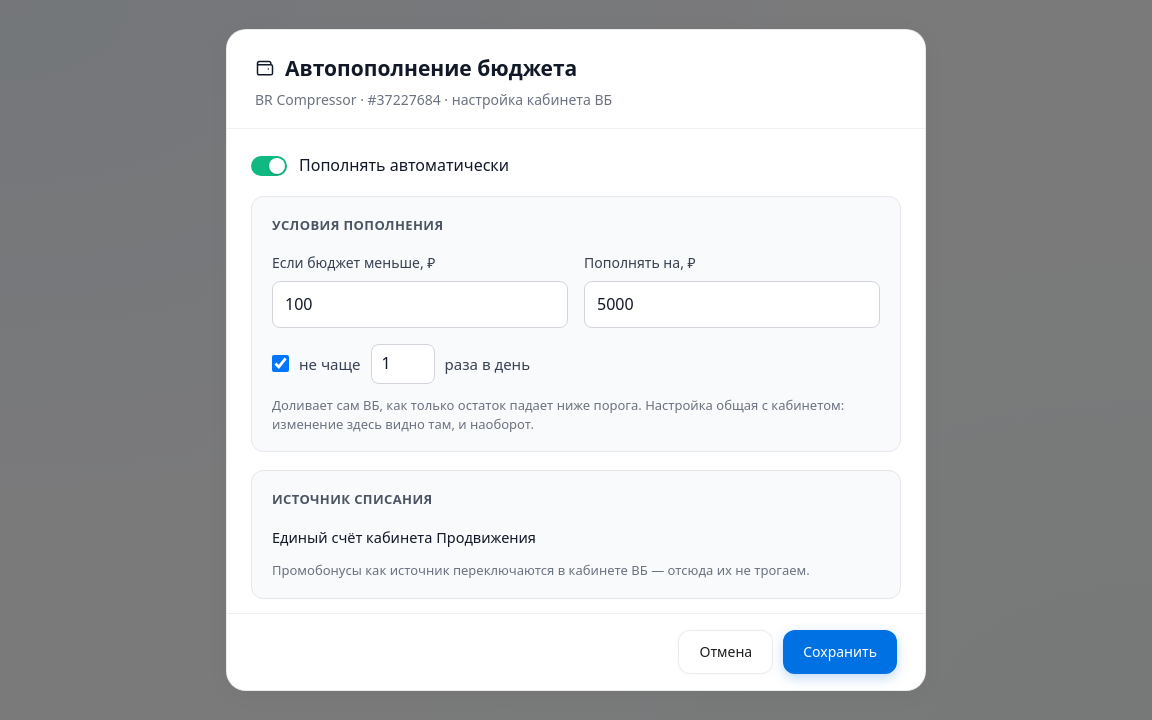
Test: AutopayModal (настройка кабинета ВБ) › сумма ниже минимума ВБ — кнопка заблокирована
Replace the text in the number field named "Сумма долива, ₽" with "300" at (732, 304), box [584,281,880,328]
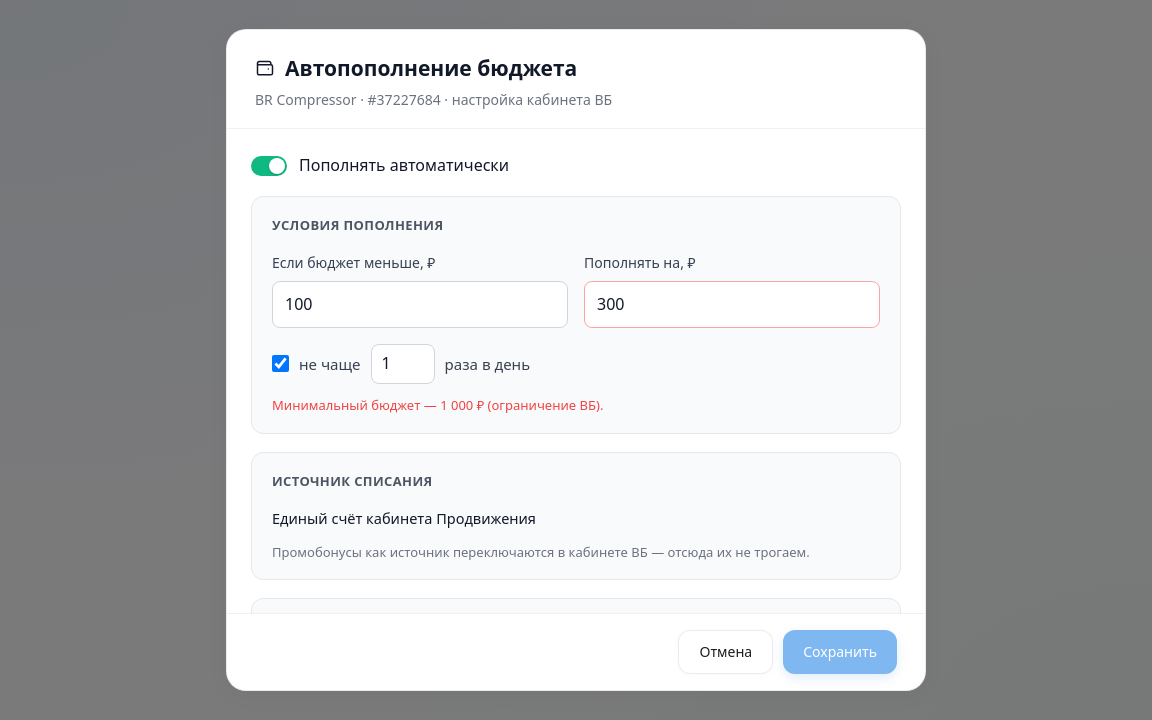
Expected: the text "Минимальный бюджет — 1 000 ₽ (ограничение ВБ)." is shown, [272,396,603,414]
Expected: the button "Сохранить" is disabled, [783,630,897,674]
